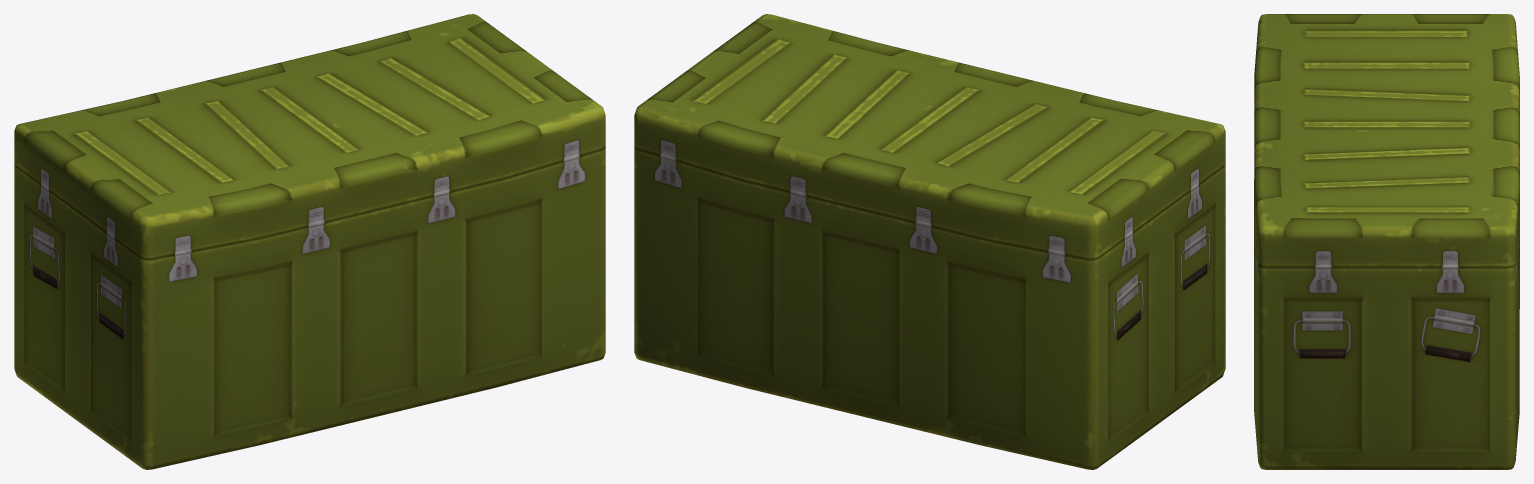
Rendered from StorageCase01.FBX.
The picture shows the model from 3 angles, left to right: view 1: azimuth 30°, elevation 25°; view 2: azimuth 150°, elevation 25°; view 3: azimuth 270°, elevation 25°; orthographic projection. The views are drawn at different scales.
Parts seen in each view (by area): view 1: StorageCase01; view 2: StorageCase01; view 3: StorageCase01.
Part boxes in pixels (<box>): StorageCase01: <box>14,14,605,469</box>; StorageCase01: <box>634,14,1225,469</box>; StorageCase01: <box>1254,14,1519,469</box>.
Size of what is drawn, in the model's own units: 0.9588 by 0.4995 by 0.4943.
